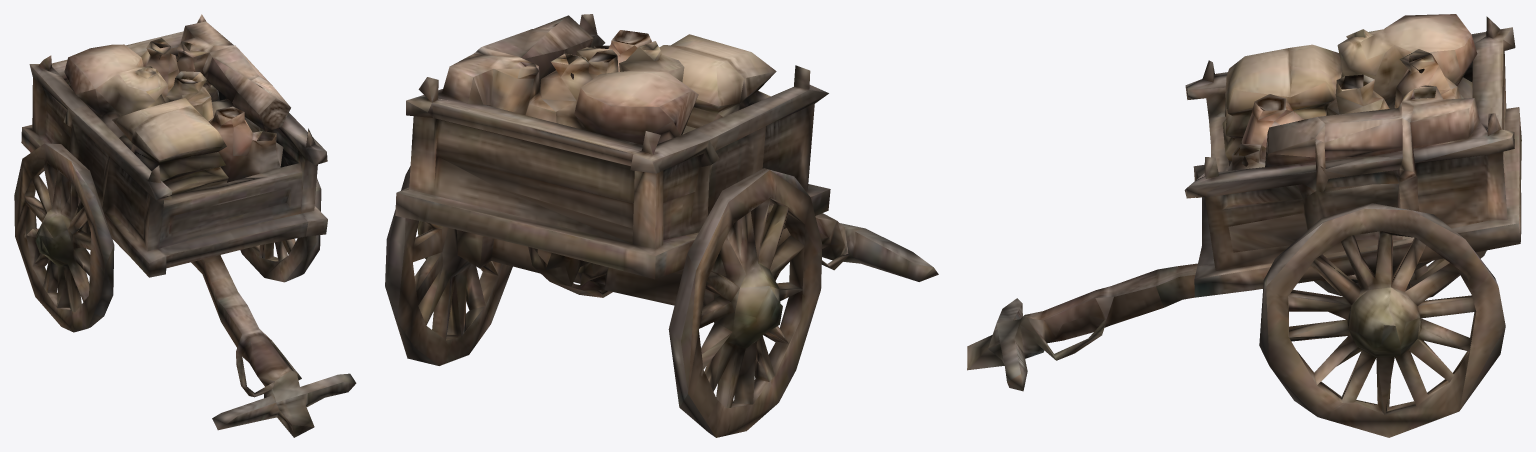
Rendered from cart.glb.
3 renders of one model, left to right at view 1: azimuth 30°, elevation 25°; view 2: azimuth 150°, elevation 25°; view 3: azimuth 270°, elevation 25°, orthographic. The views are drawn at different scales.
Parts seen in each view (by area): view 1: cart; view 2: cart; view 3: cart.
Part boxes in pixels (x1,y1,x2,y2): cart: (14, 14, 356, 437); cart: (385, 14, 938, 437); cart: (967, 14, 1521, 437).
Size of the model in its own units: 2.74 by 2.68 by 3.99.
Materials: 1 (1 with a texture image).
